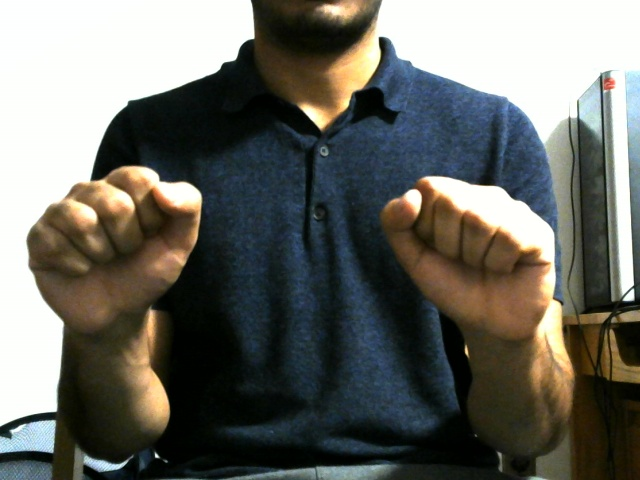can: (8, 127, 623, 451)
